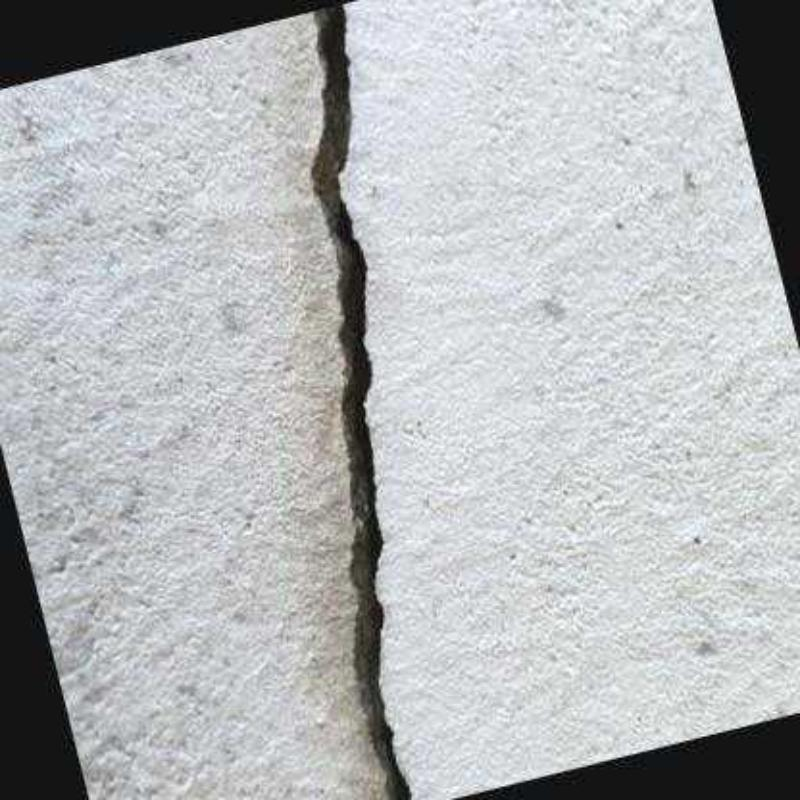crack: (306, 2, 412, 800)
